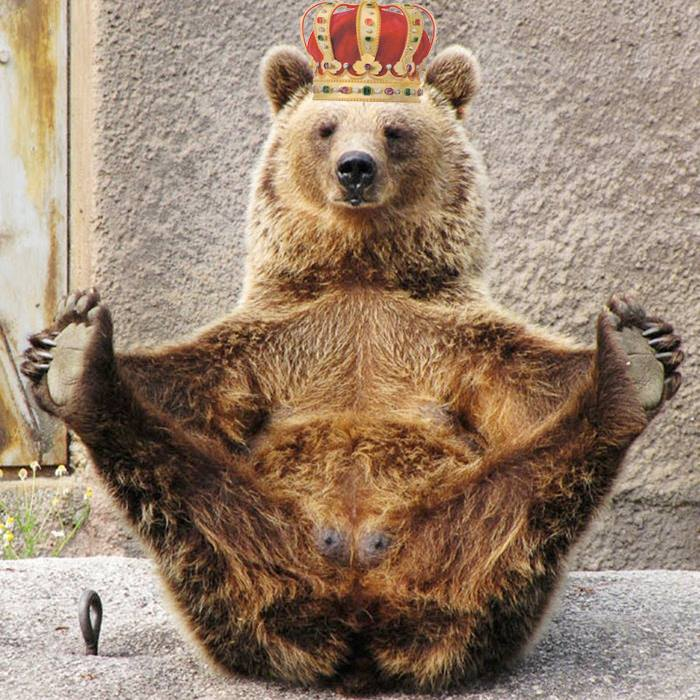bear: (251, 38, 483, 289)
